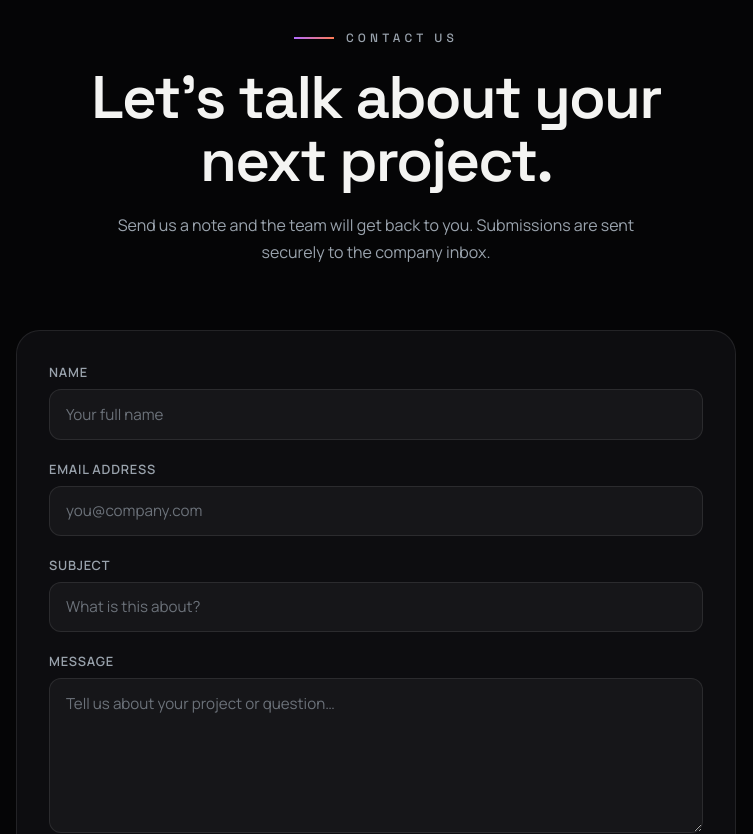
Test case: ContactUs › surfaces server validation errors without faking success
Type "Jane Doe" into the field labelled "Name" at (376, 414), box [49, 389, 703, 440]
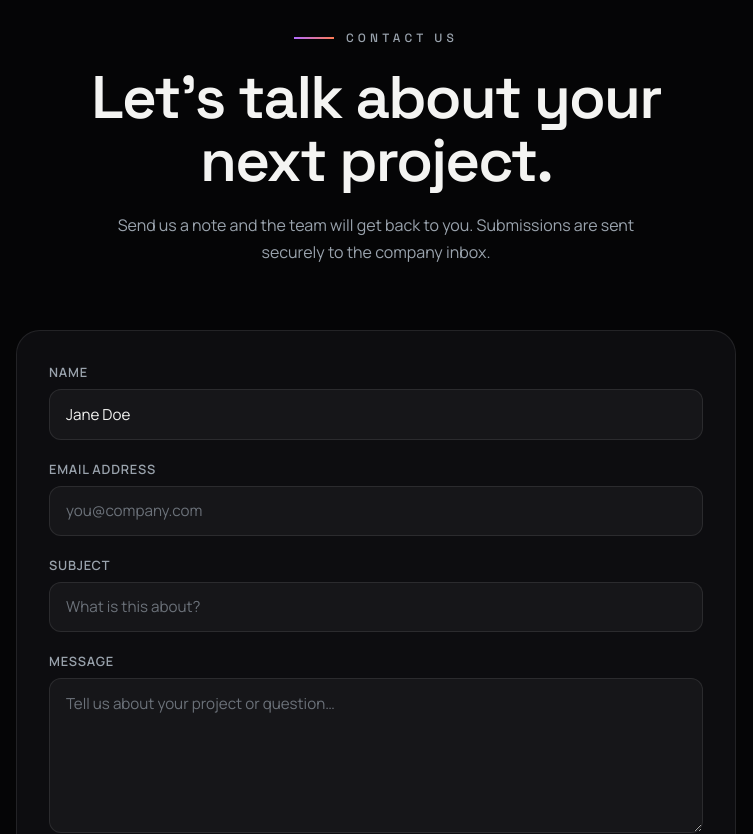
Type "jane@example.com" into the field labelled "Email Address" at (376, 511), box [49, 486, 703, 536]
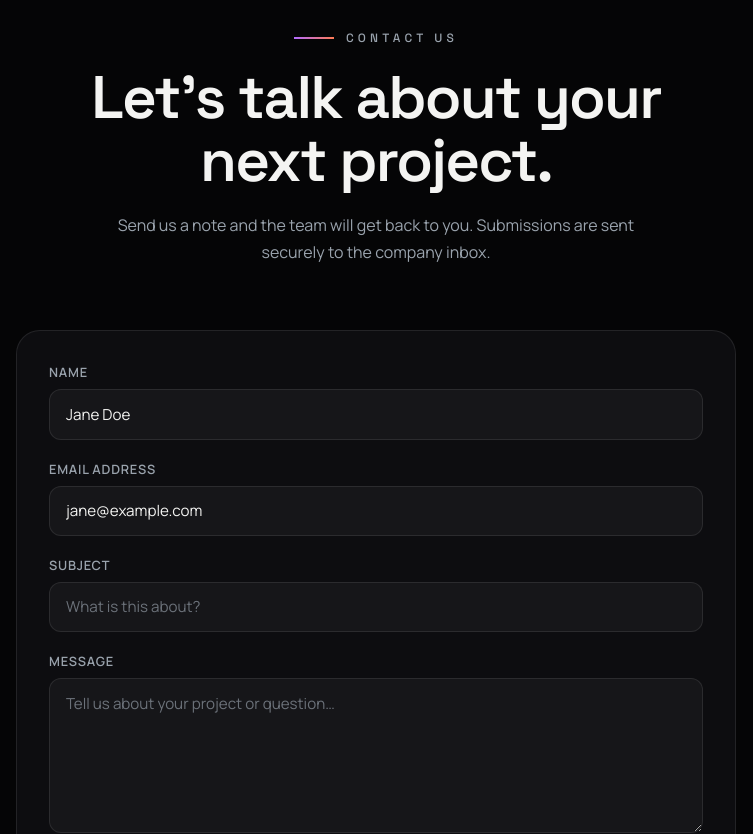
Type "Project inquiry" into the field labelled "Subject" at (376, 607), box [49, 582, 703, 632]
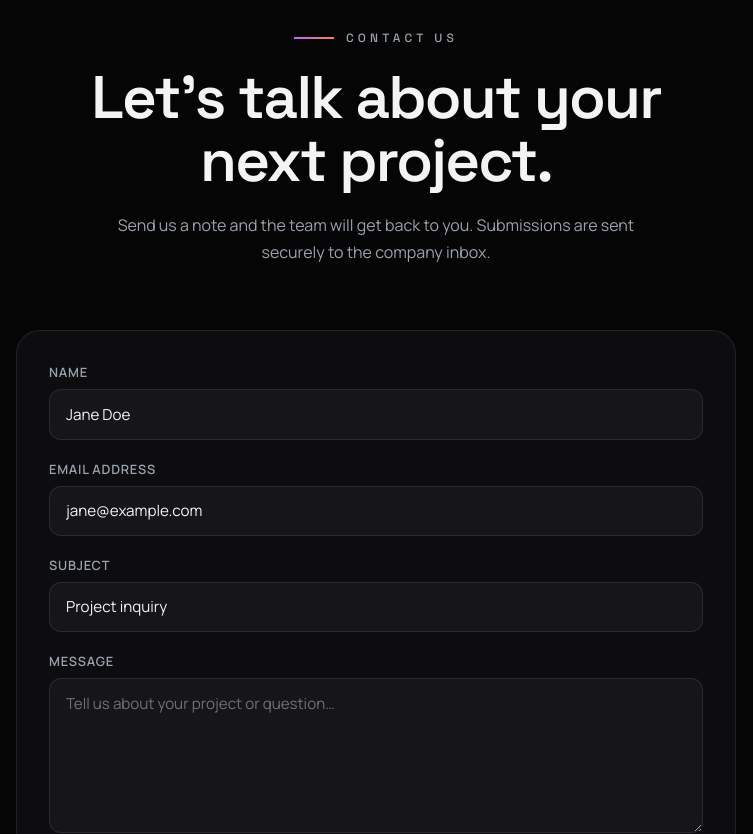
Type "Hello, we would like to talk about a new website." into the text box labelled "Message" at (376, 756), box [49, 678, 703, 833]
(page scrolled)
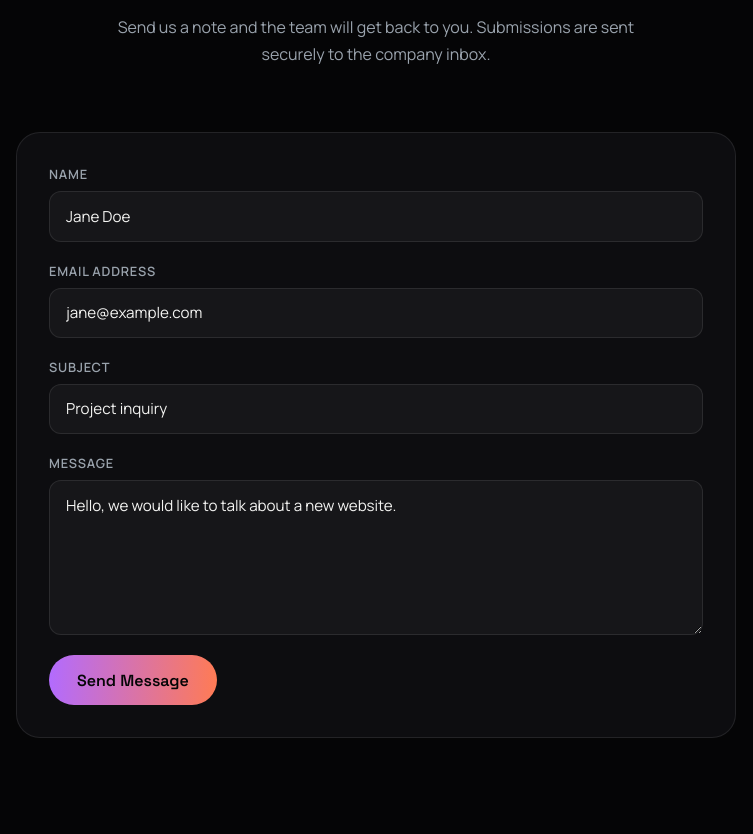
Click the button "Send Message" at (133, 680), box [49, 655, 217, 705]
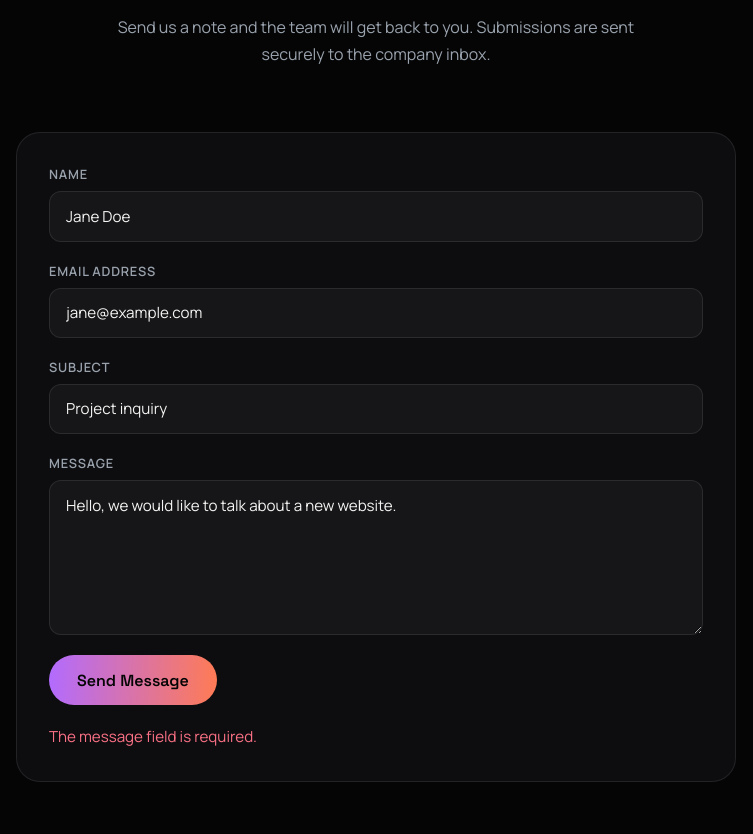
Check: the text "The message field is required." is shown, box [49, 726, 257, 747]
